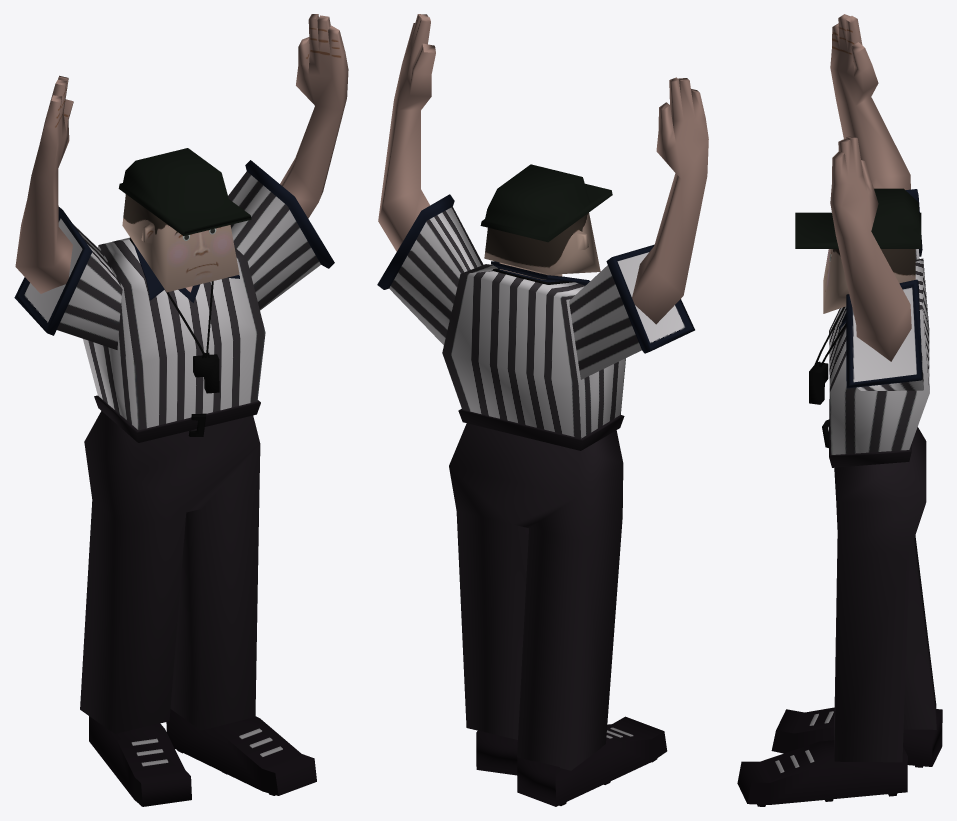
Rendered from Ref.fbx.
The picture shows the model from 3 angles, left to right: view 1: azimuth 30°, elevation 25°; view 2: azimuth 150°, elevation 25°; view 3: azimuth 270°, elevation 25°; orthographic projection. The views are drawn at different scales.
Visible parts, largest first — view 1: node_id109; view 2: node_id109; view 3: node_id109.
Boxes of the visible parts, x1,y1,x2,y2 form: node_id109: (14, 14, 348, 806); node_id109: (377, 14, 708, 806); node_id109: (737, 14, 942, 806).
Bounding box in the file's own units: 0.2346 × 0.512 × 0.1364.
Materials: 1 (1 with a texture image).
